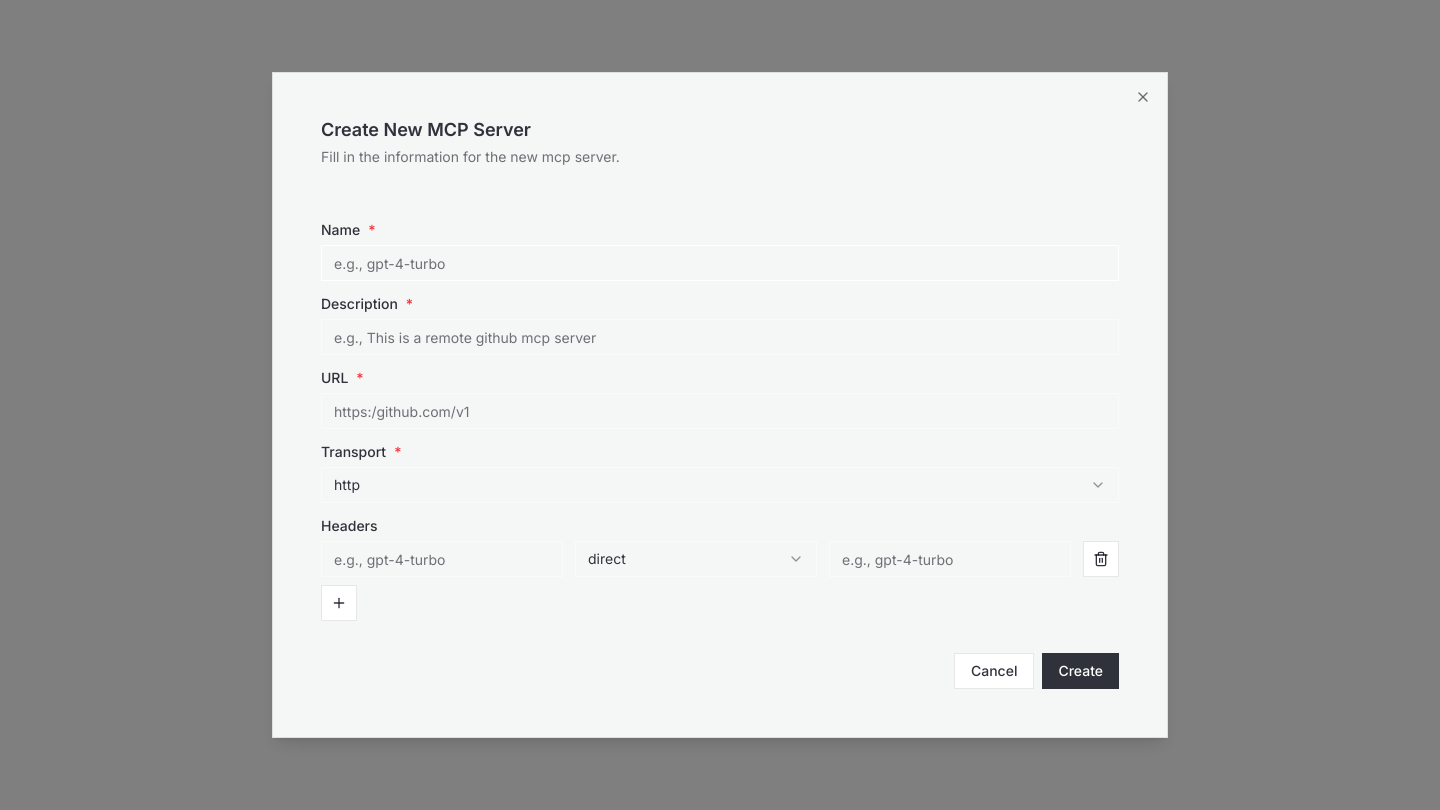
Test: McpEditor › validation › should show error when URL is empty on submit
The image size is (1440, 810).
Step 1. Type "valid-name" into the field labelled "Name *" → (720, 263), box [321,245,1119,281]
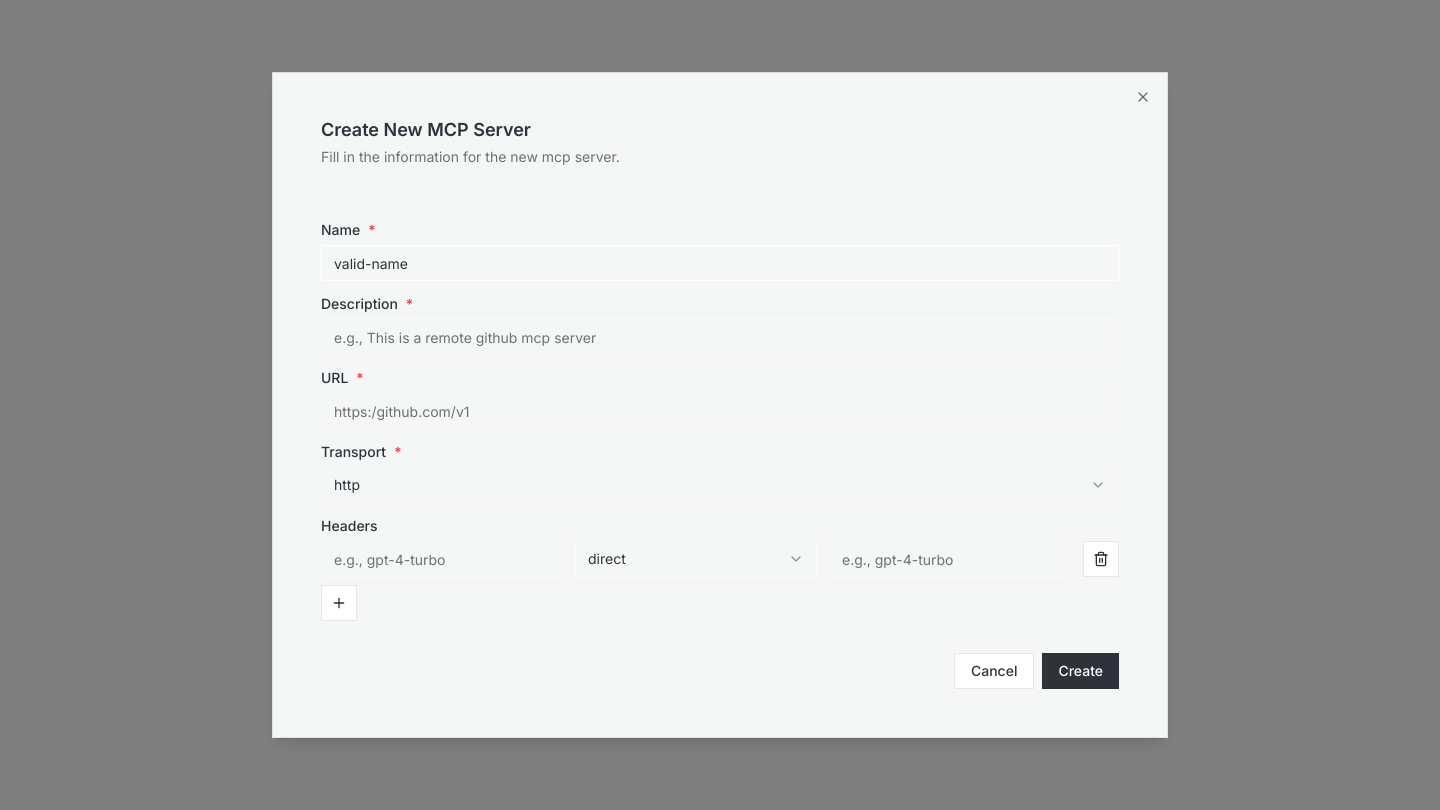
Step 2. Type "Valid description" into the field labelled "Description *" → (720, 337), box [321,319,1119,355]
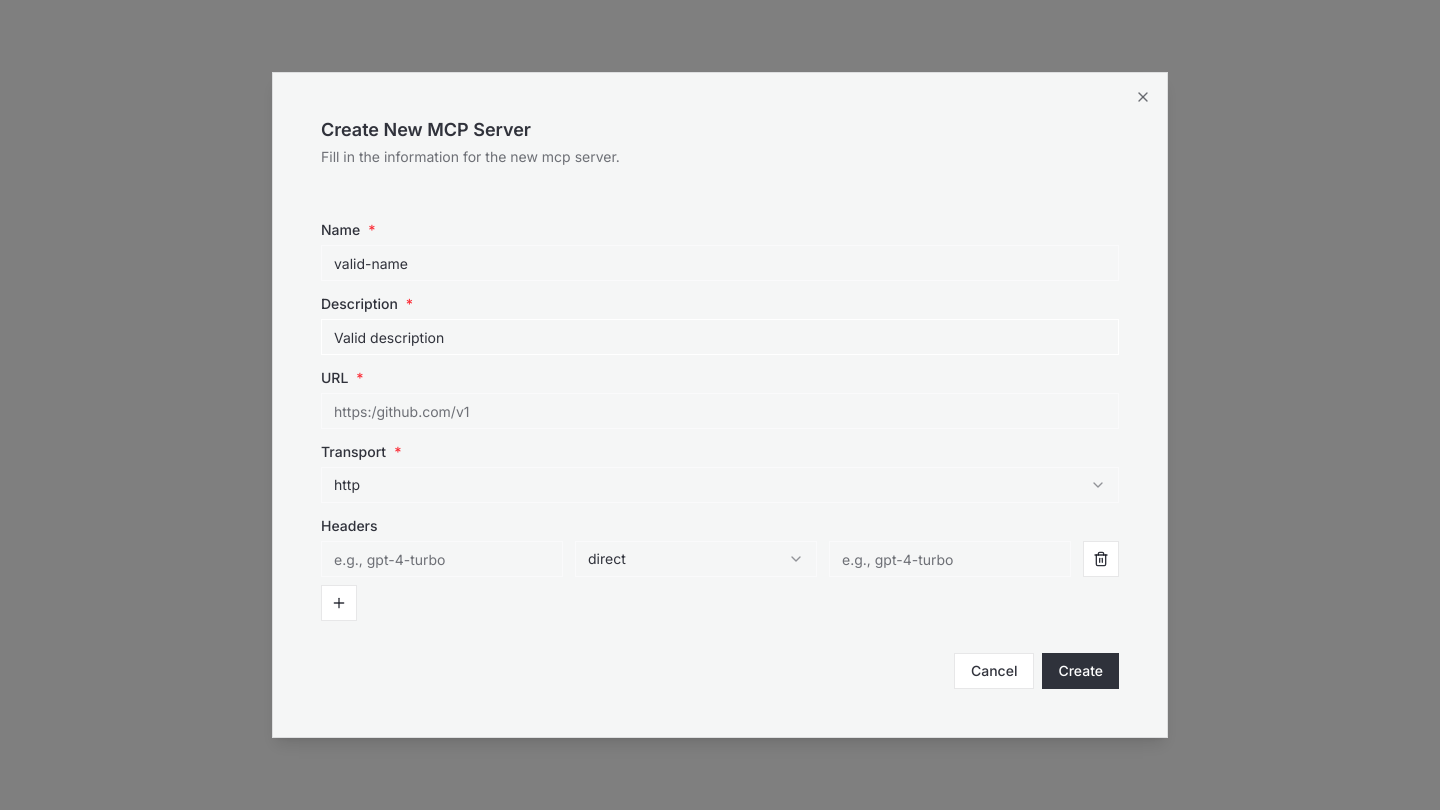
Step 3. Click the button "Create" → (1081, 671), box [1042,653,1119,689]
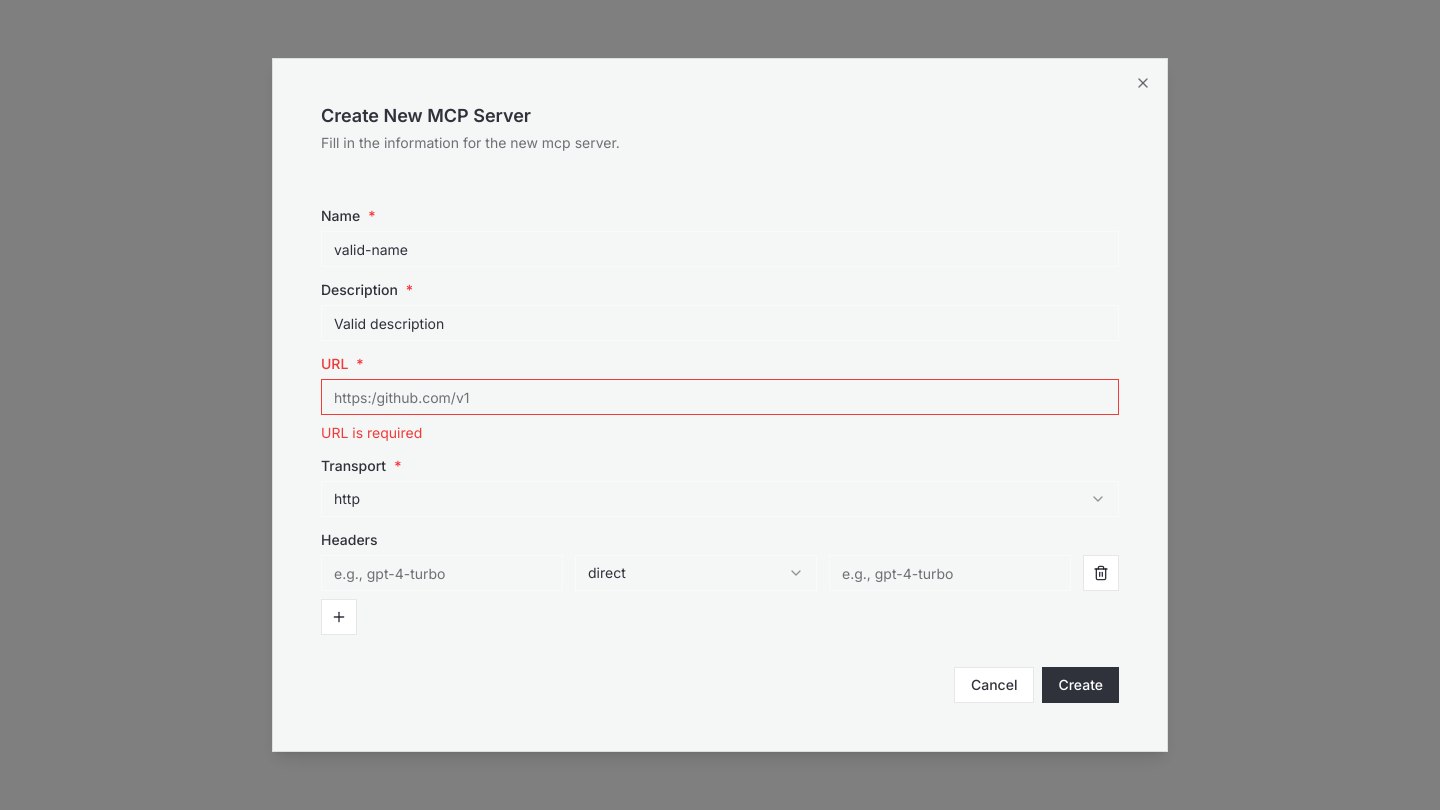
Expected: the text "URL is required" is shown, [321,424,422,441]
